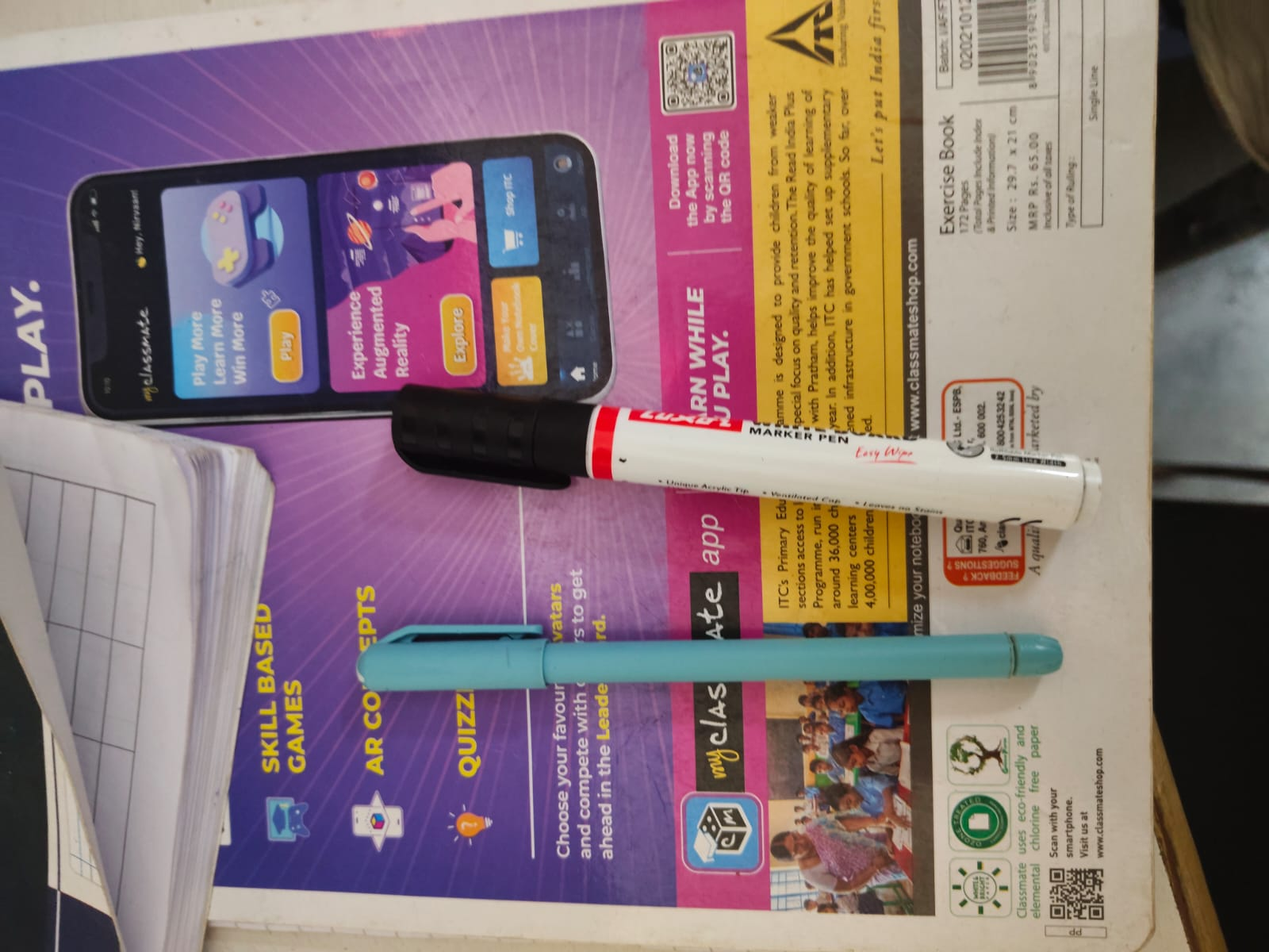case: (371, 360, 1120, 542)
pen: (333, 599, 1094, 697)
